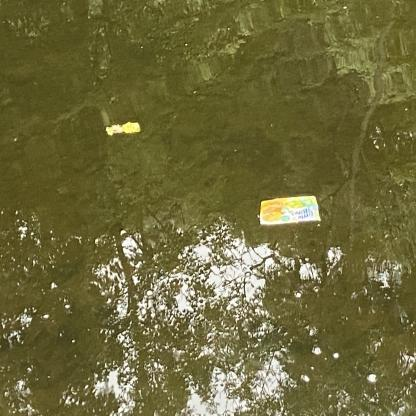trash: (257, 194, 324, 230)
